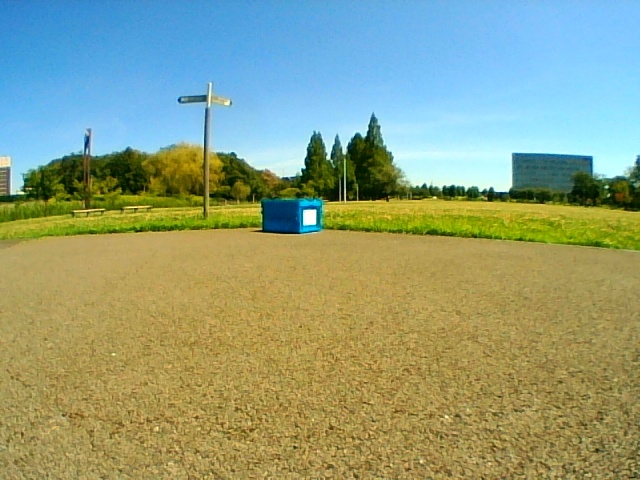blue_box: (263, 200, 320, 233)
tag: (304, 209, 317, 225)
